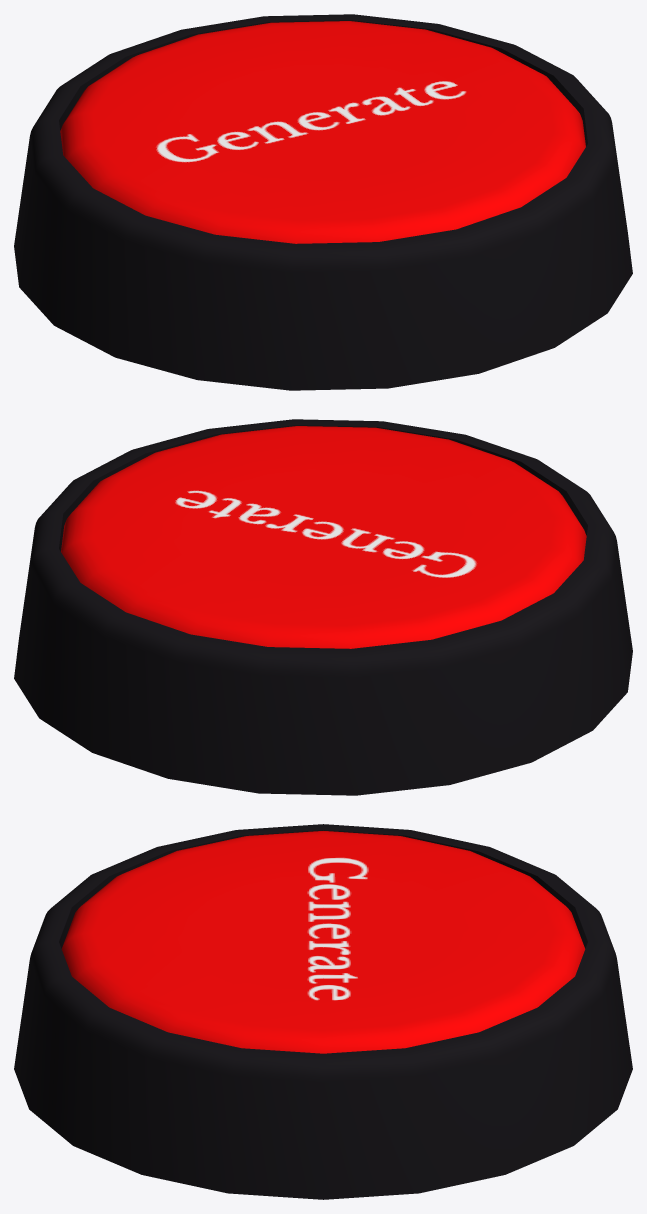
The model's file is buttonRedPressed.glb.
The picture shows the model from 3 angles, top to bottom: view 1: azimuth 30°, elevation 25°; view 2: azimuth 150°, elevation 25°; view 3: azimuth 270°, elevation 25°; orthographic projection.
Parts seen in each view (by area): view 1: buttonPressedRed; view 2: buttonPressedRed; view 3: buttonPressedRed.
Part boxes in pixels (x1,y1,x2,y2): buttonPressedRed: (14,14,632,390); buttonPressedRed: (14,419,632,795); buttonPressedRed: (14,824,632,1199).
Size of the model in its own units: 0.4609 by 0.1119 by 0.4609.
1 material, 1 textured.
